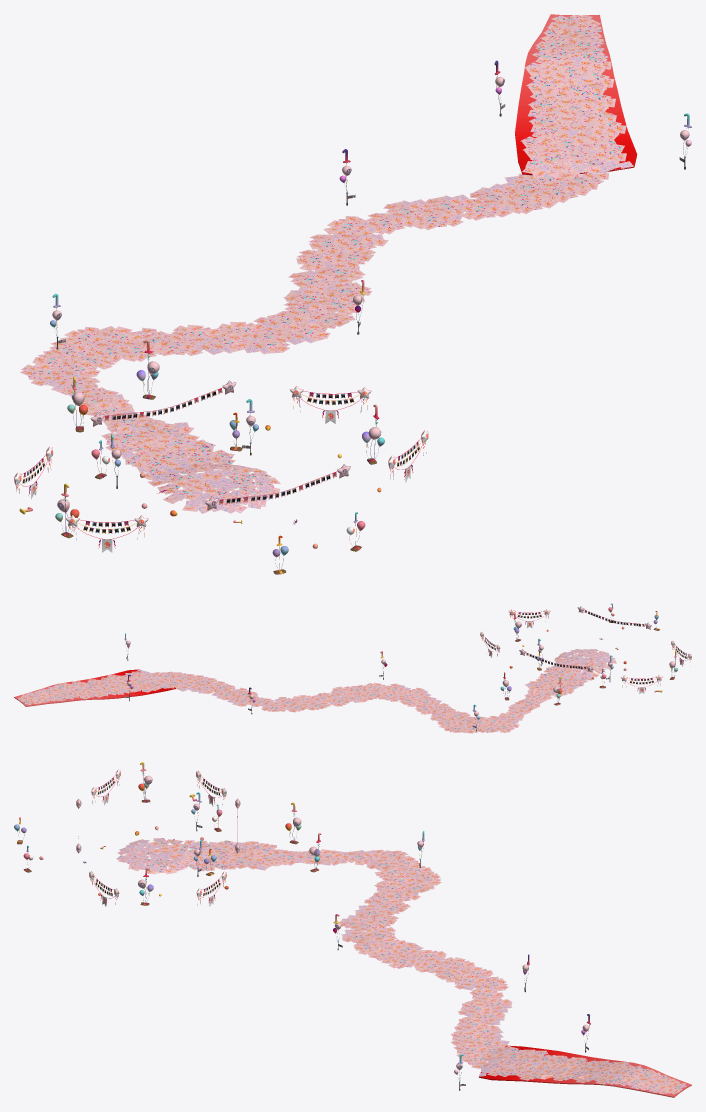
File: Static_Decor.glb
3 views of the same model, one above another, from view 1: azimuth 30°, elevation 25°; view 2: azimuth 150°, elevation 25°; view 3: azimuth 270°, elevation 25° (orthographic). The views are drawn at different scales.
Parts seen in each view (by area): view 1: RedCarpet, ConfettiA.641, ConfettiA.556, PartA.005, PartA.002; view 2: RedCarpet, ConfettiA.641, ConfettiA.556, PartA.003, PartA.006; view 3: RedCarpet, ConfettiA.641, ConfettiA.556.
Boxes of the visible parts, box(x1,y1,x2,y2) form: RedCarpet: box(515, 14, 637, 175); ConfettiA.641: box(524, 47, 614, 98); ConfettiA.556: box(520, 132, 633, 173); PartA.005: box(66, 515, 148, 552); PartA.002: box(290, 386, 371, 423); RedCarpet: box(14, 669, 175, 706); ConfettiA.641: box(54, 681, 104, 699); ConfettiA.556: box(127, 669, 174, 692); PartA.003: box(508, 609, 550, 627); PartA.006: box(621, 675, 662, 693); RedCarpet: box(479, 1045, 691, 1097); ConfettiA.641: box(573, 1060, 635, 1084); ConfettiA.556: box(479, 1045, 547, 1076).
Bounding box in the file's own units: 137 × 8.98 × 124.
Materials: 6 (6 with a texture image).
